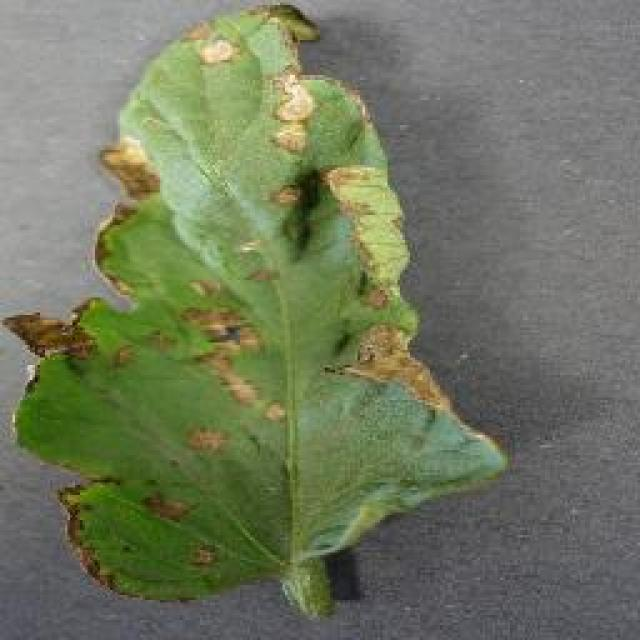bacterial spot: (2, 5, 520, 618)
